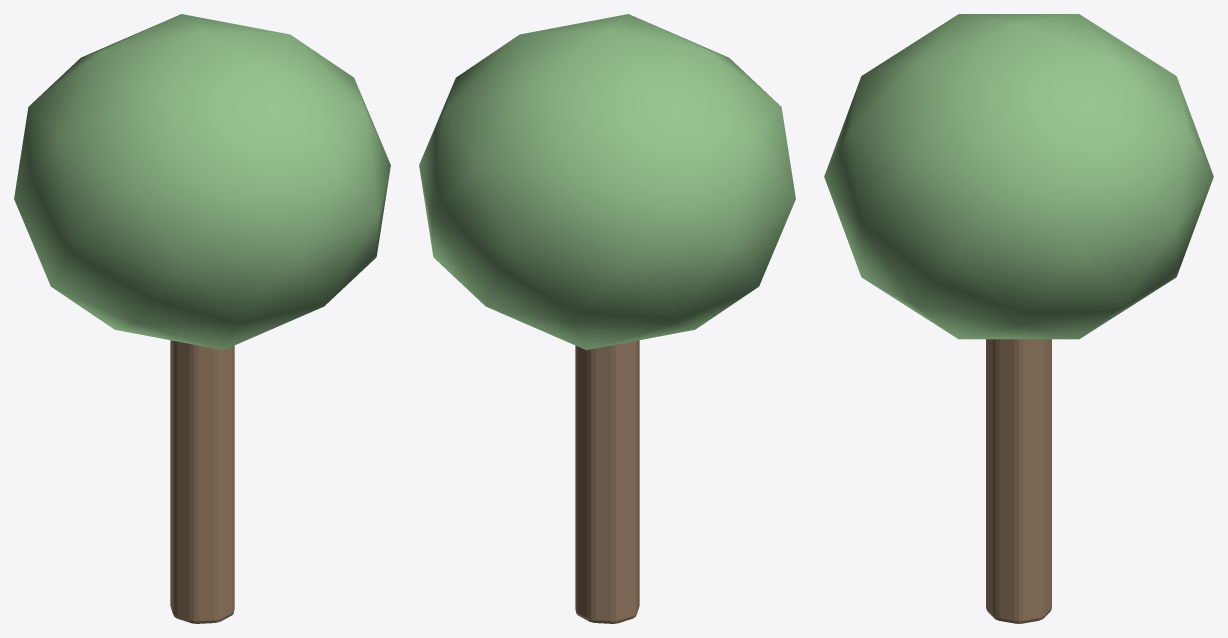
The model's file is tree_01.glb.
The picture shows the model from 3 angles, left to right: view 1: azimuth 30°, elevation 25°; view 2: azimuth 150°, elevation 25°; view 3: azimuth 270°, elevation 25°; orthographic projection.
Parts seen in each view (by area): view 1: TreeCanopy, TreeTrunk; view 2: TreeCanopy, TreeTrunk; view 3: TreeCanopy, TreeTrunk.
Part boxes in pixels (bbox=[...]): TreeCanopy: bbox=[14, 14, 390, 350]; TreeTrunk: bbox=[170, 340, 234, 623]; TreeCanopy: bbox=[419, 14, 795, 350]; TreeTrunk: bbox=[575, 340, 639, 623]; TreeCanopy: bbox=[824, 14, 1213, 339]; TreeTrunk: bbox=[986, 339, 1051, 623].
Size of the model in its own units: 2.16 by 3.78 by 2.27.
